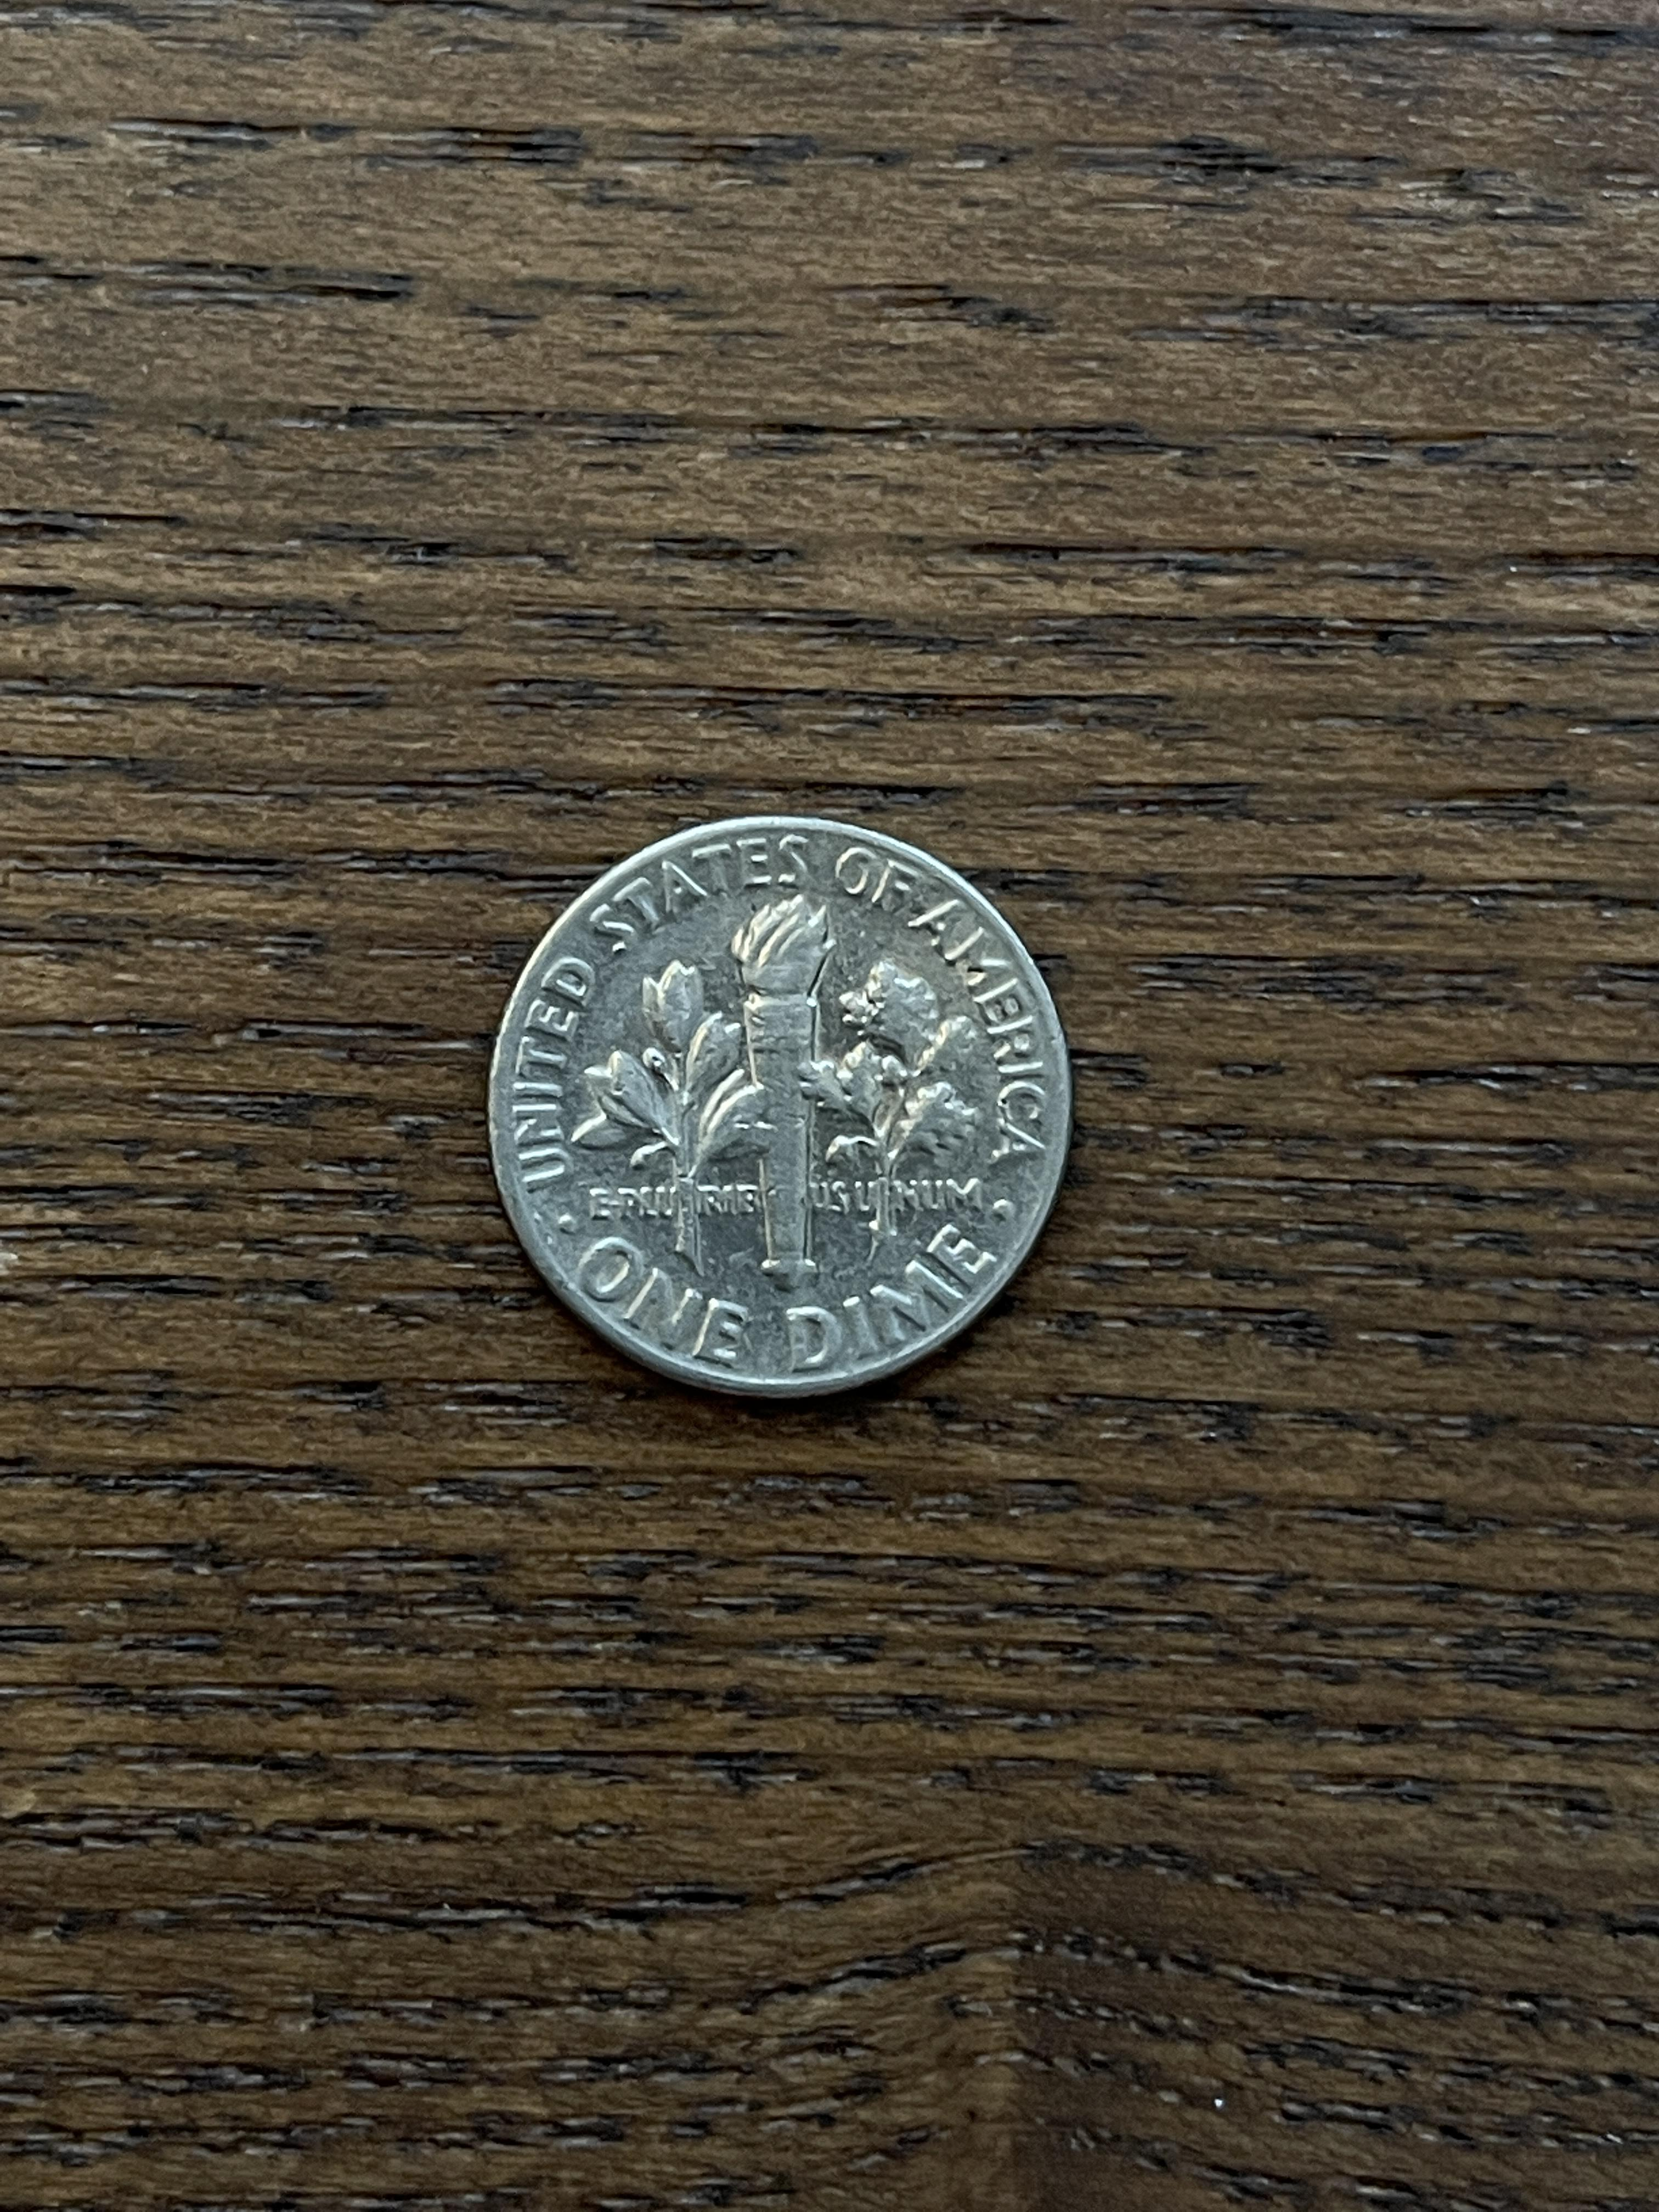Dime: (483, 810, 1080, 1411)
